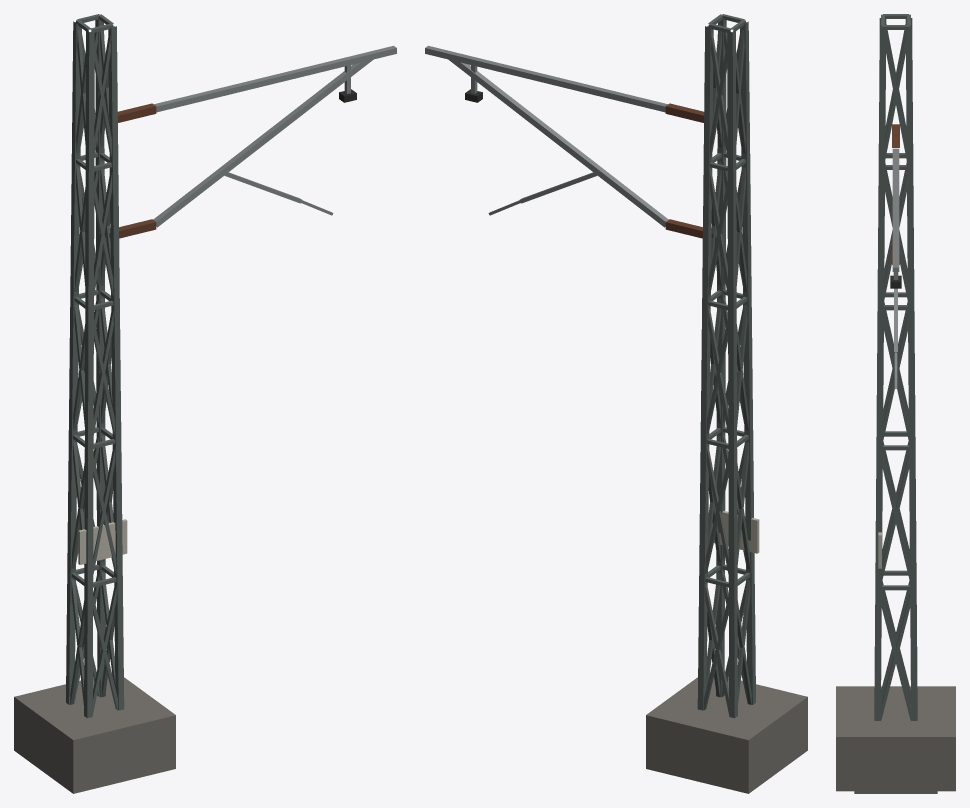
The model's file is catenary-mast-b.glb.
The picture shows the model from 3 angles, left to right: view 1: azimuth 30°, elevation 25°; view 2: azimuth 150°, elevation 25°; view 3: azimuth 270°, elevation 25°; orthographic projection.
Parts seen in each view (by area): view 1: catenary-mast-b; view 2: catenary-mast-b; view 3: catenary-mast-b.
Part boxes in pixels (x1,y1,x2,y2): catenary-mast-b: (14,14,396,793); catenary-mast-b: (425,14,807,793); catenary-mast-b: (836,14,955,793).
Bounding box in the file's own units: 4.45 × 9.02 × 1.3.
